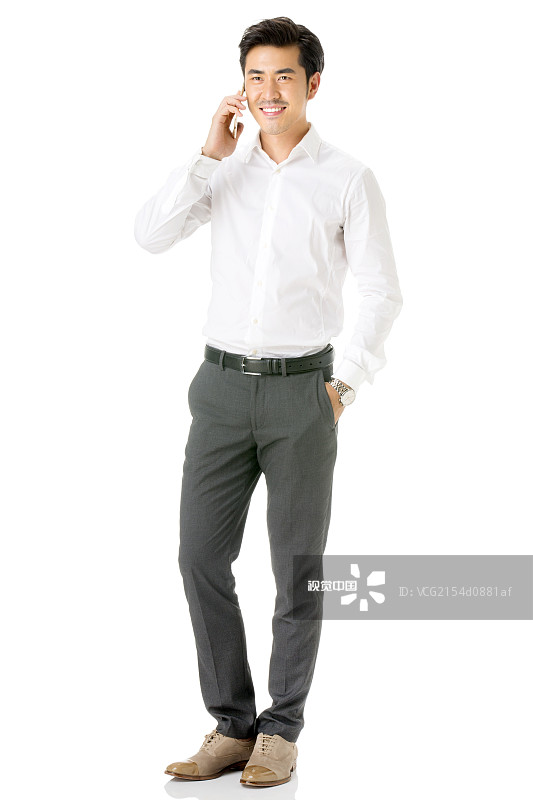calling: (190, 76, 261, 174)
